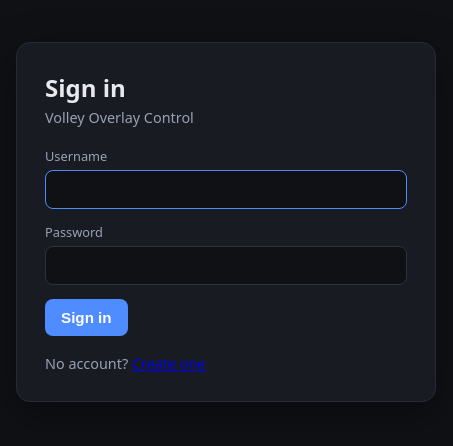
Test case: LoginPage submit flows › shows the invalid-credentials copy only for a 401
This screenshot has width=453, height=446.
In the field labelled "Username": (226, 190) [45, 170, 407, 209], type "alice"
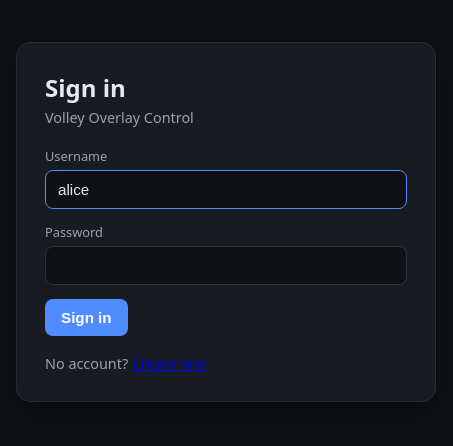
In the password field labelled "Password": (226, 266) [45, 246, 407, 285], type "wrong"
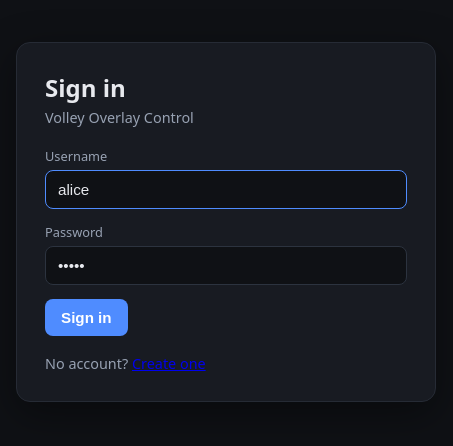
Click the button "Sign in": (86, 318) [45, 299, 128, 336]
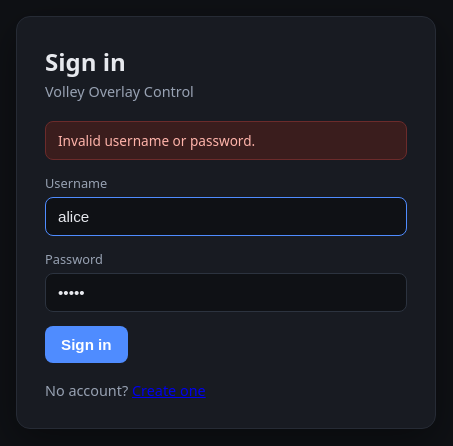
Check: the text "Invalid username or password." is shown, box [45, 120, 407, 160]
